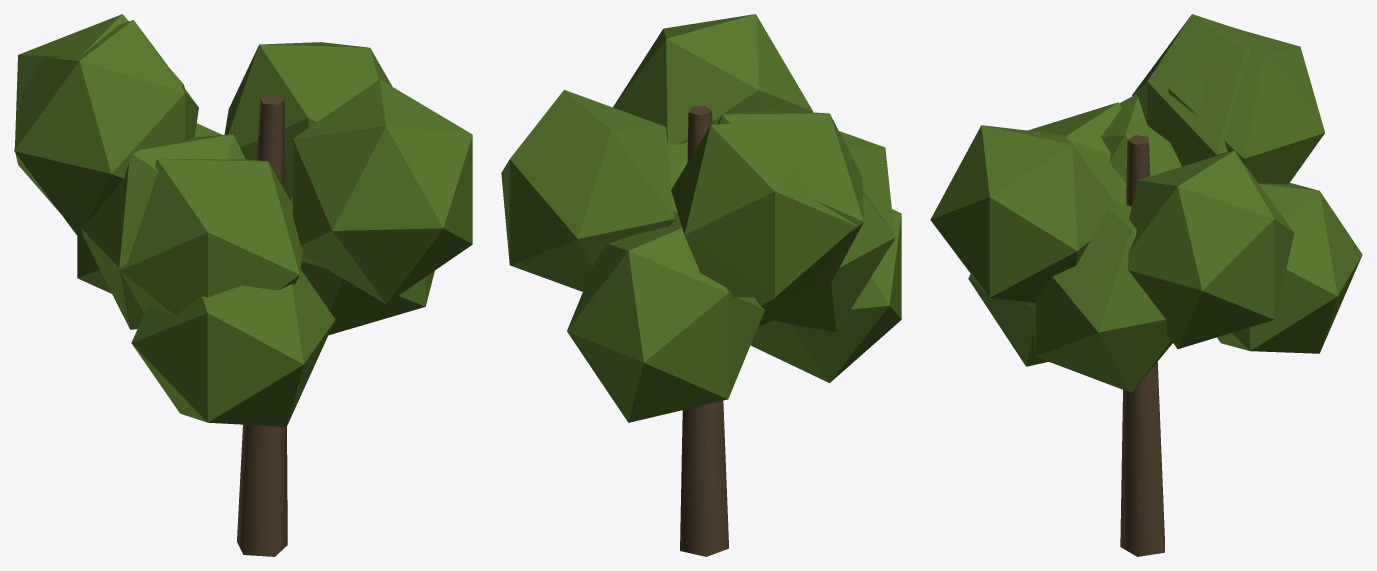
3 renders of one model, left to right at view 1: azimuth 30°, elevation 25°; view 2: azimuth 150°, elevation 25°; view 3: azimuth 270°, elevation 25°, orthographic. The views are drawn at different scales.
Visible parts, largest first — view 1: oak-leaf; view 2: oak-leaf; view 3: oak-leaf.
Part boxes in pixels (x1=…): oak-leaf: x1=14, y1=14, x2=472, y2=556; oak-leaf: x1=501, y1=14, x2=901, y2=556; oak-leaf: x1=930, y1=14, x2=1362, y2=556.
Bounding box in the file's own units: 6.93 × 8.7 × 7.36.
